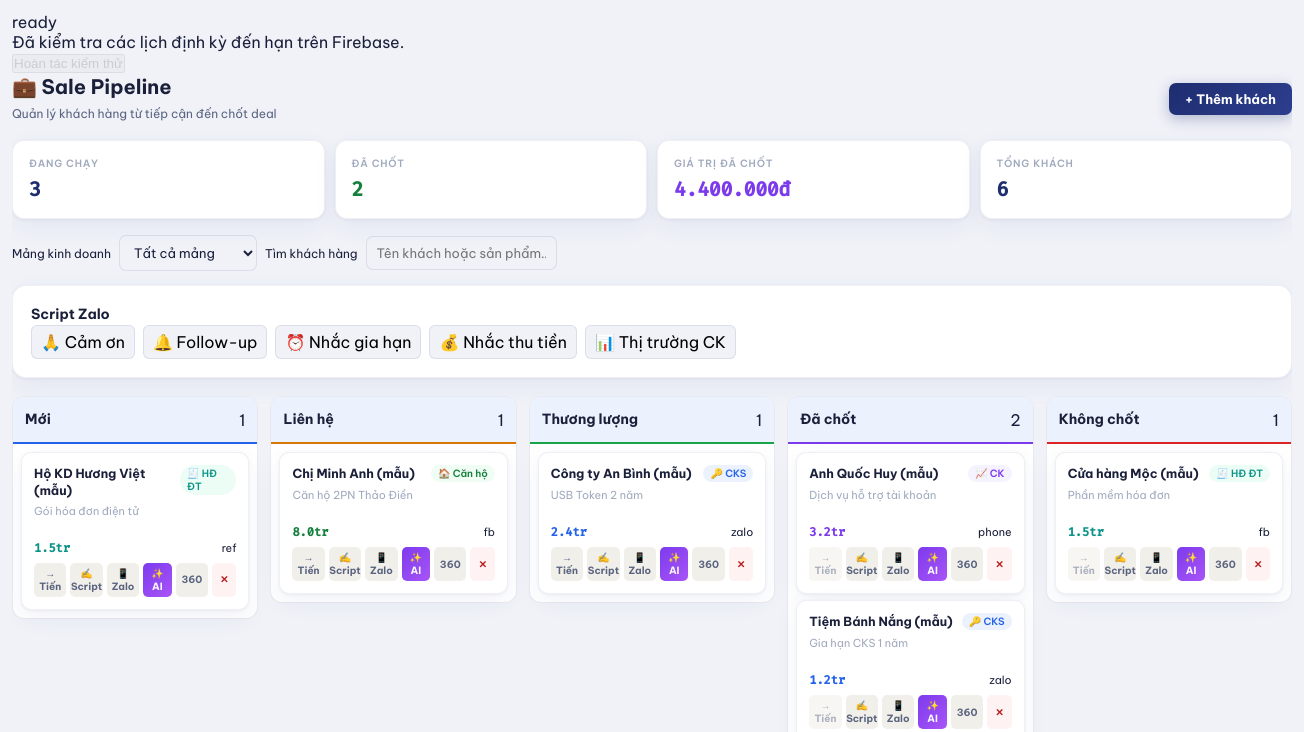
Test: editable screens › filters the pipeline and keeps lost deals from advancing
Expected: the text with test id "ready" reads "ready", [12,12,57,32]
Step 1. Type "Cửa hàng Mộc" into the field labelled "Tìm khách hàng" → (461, 253), box [366,236,557,270]
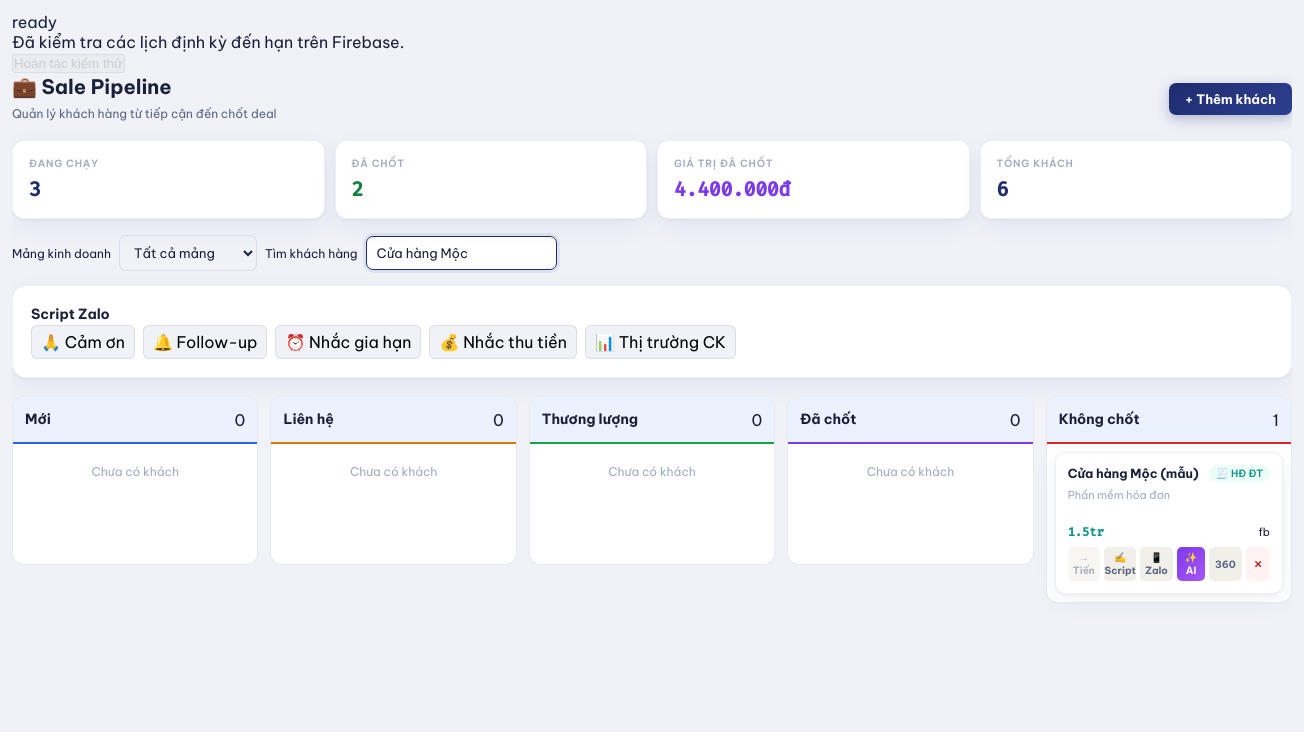
Expected: the button "→ Tiến" is disabled, [1068,547,1100,581]
Now the button "Công ty An Bình (mẫu)" is gone
